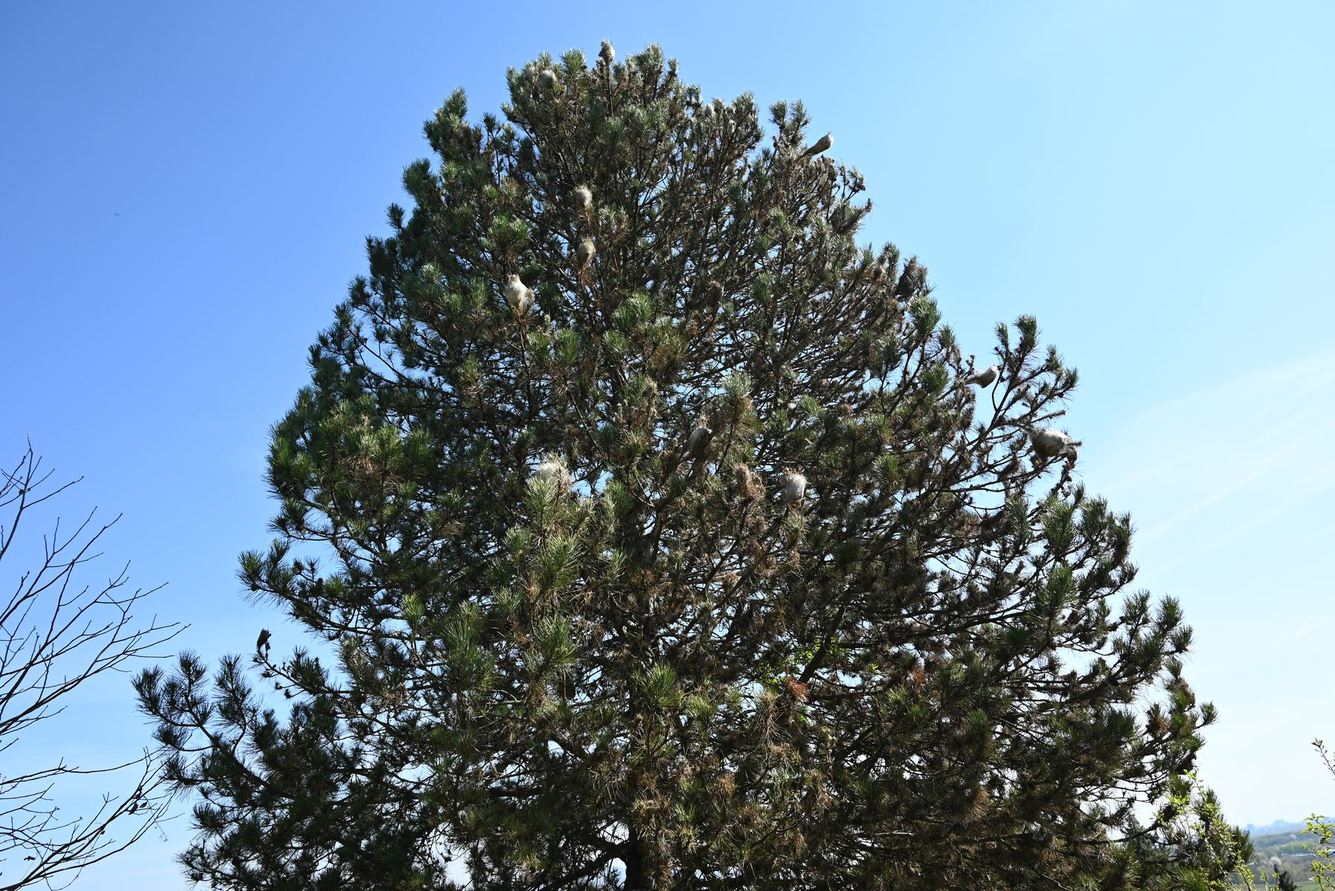thaumatopoea pityocampa jajno gnijezdo: (503, 269, 536, 318), (527, 457, 573, 490), (1036, 430, 1072, 454), (785, 471, 810, 498), (738, 465, 759, 492), (575, 183, 596, 207), (580, 237, 598, 260), (814, 135, 835, 153), (601, 45, 617, 61), (624, 61, 640, 75), (542, 69, 556, 81), (707, 103, 719, 116)
